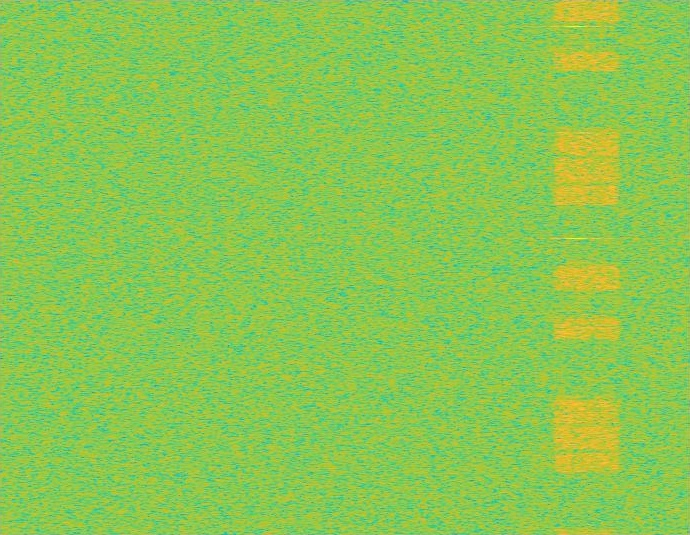LTE: (552, 0, 621, 534)
Radar: (569, 0, 582, 534)
